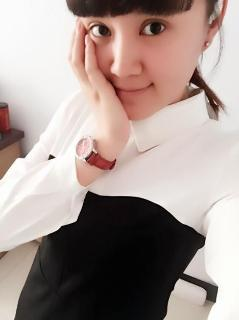long sleeve dress: (0, 80, 239, 319)
